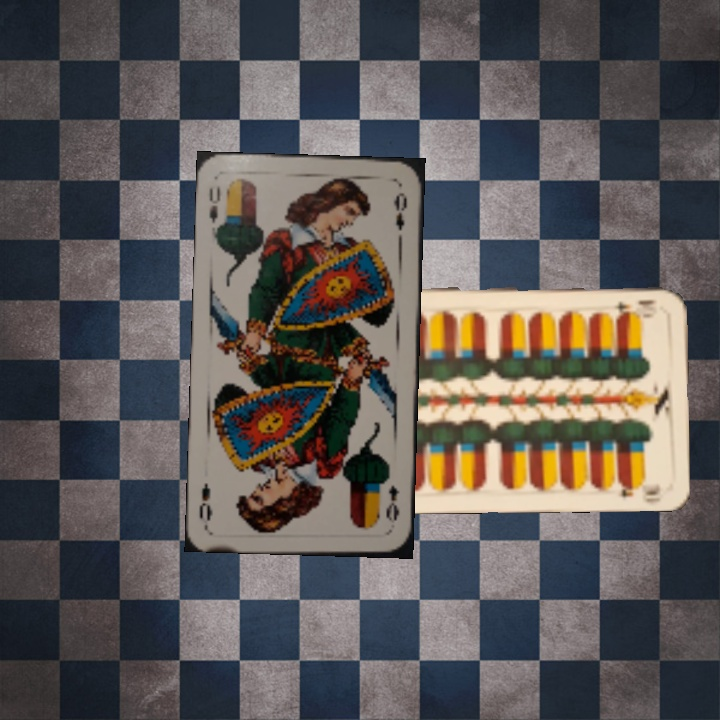E10: (603, 295, 660, 317)
EO: (381, 481, 402, 525), (204, 182, 223, 226)
